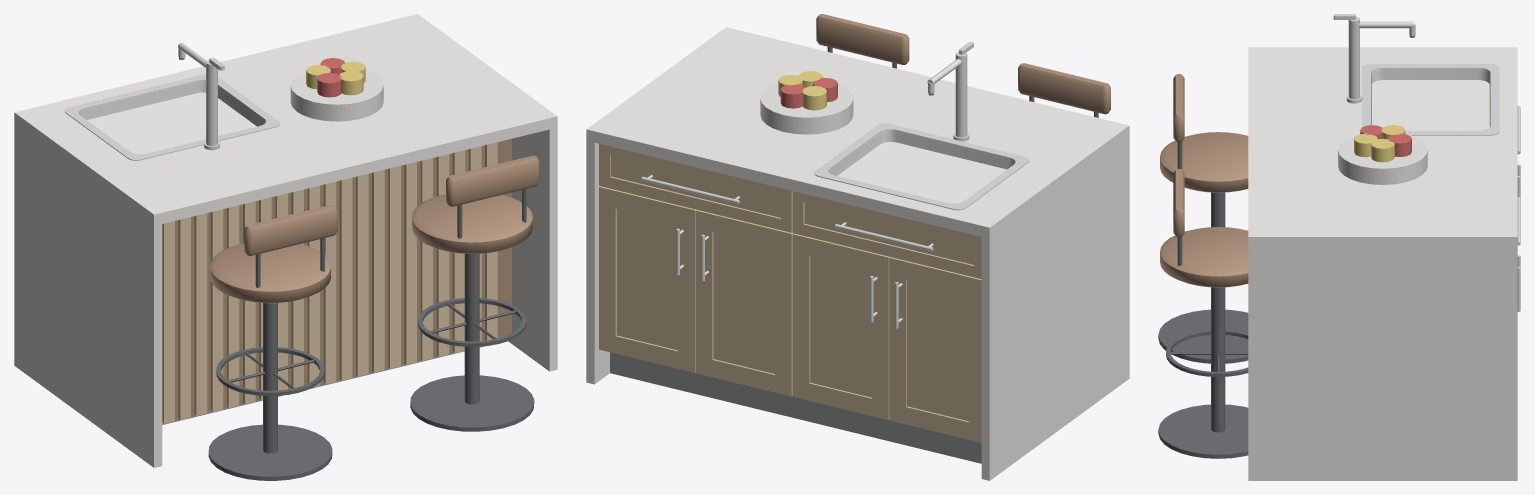
3 views of the same model, side by side, from view 1: azimuth 30°, elevation 25°; view 2: azimuth 150°, elevation 25°; view 3: azimuth 270°, elevation 25° (orthographic). The views are drawn at different scales.
Visible parts, largest first — view 1: Đảo bếp Dài=1500; Rộng=900; view 2: Đảo bếp Dài=1500; Rộng=900; view 3: Đảo bếp Dài=1500; Rộng=900.
Part boxes in pixels (x1,y1,x2,y2): Đảo bếp Dài=1500; Rộng=900: (14,14,557,480); Đảo bếp Dài=1500; Rộng=900: (586,14,1129,480); Đảo bếp Dài=1500; Rộng=900: (1158,14,1520,480).
Bounding box in the file's own units: 1.5 × 1.21 × 1.21.
